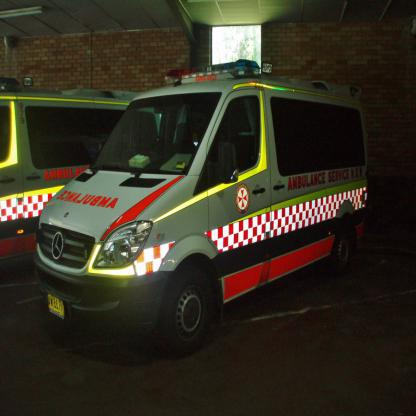bus: (33, 59, 371, 362), (1, 78, 166, 281)
